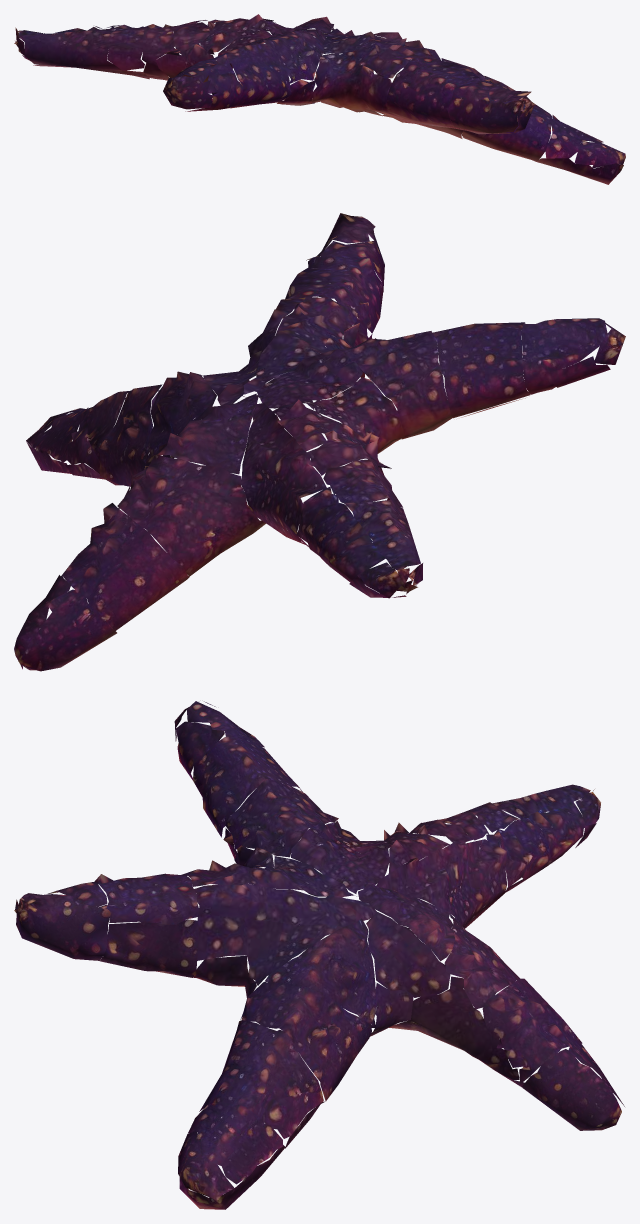
File: star_mid.glb
The picture shows the model from 3 angles, top to bottom: view 1: azimuth 30°, elevation 25°; view 2: azimuth 150°, elevation 25°; view 3: azimuth 270°, elevation 25°; orthographic projection. The views are drawn at different scales.
Parts seen in each view (by area): view 1: tripo_node_c7608102-91c3-4dfd-ae64-2f1d15d3ba83; view 2: tripo_node_c7608102-91c3-4dfd-ae64-2f1d15d3ba83; view 3: tripo_node_c7608102-91c3-4dfd-ae64-2f1d15d3ba83.
Boxes of the visible parts, x1=… form: tripo_node_c7608102-91c3-4dfd-ae64-2f1d15d3ba83: x1=14, y1=14, x2=625, y2=184; tripo_node_c7608102-91c3-4dfd-ae64-2f1d15d3ba83: x1=14, y1=213, x2=625, y2=671; tripo_node_c7608102-91c3-4dfd-ae64-2f1d15d3ba83: x1=14, y1=701, x2=624, y2=1209.
Size of the model in its own units: 0.9976 by 0.456 by 0.9535.
1 material, 1 textured.
